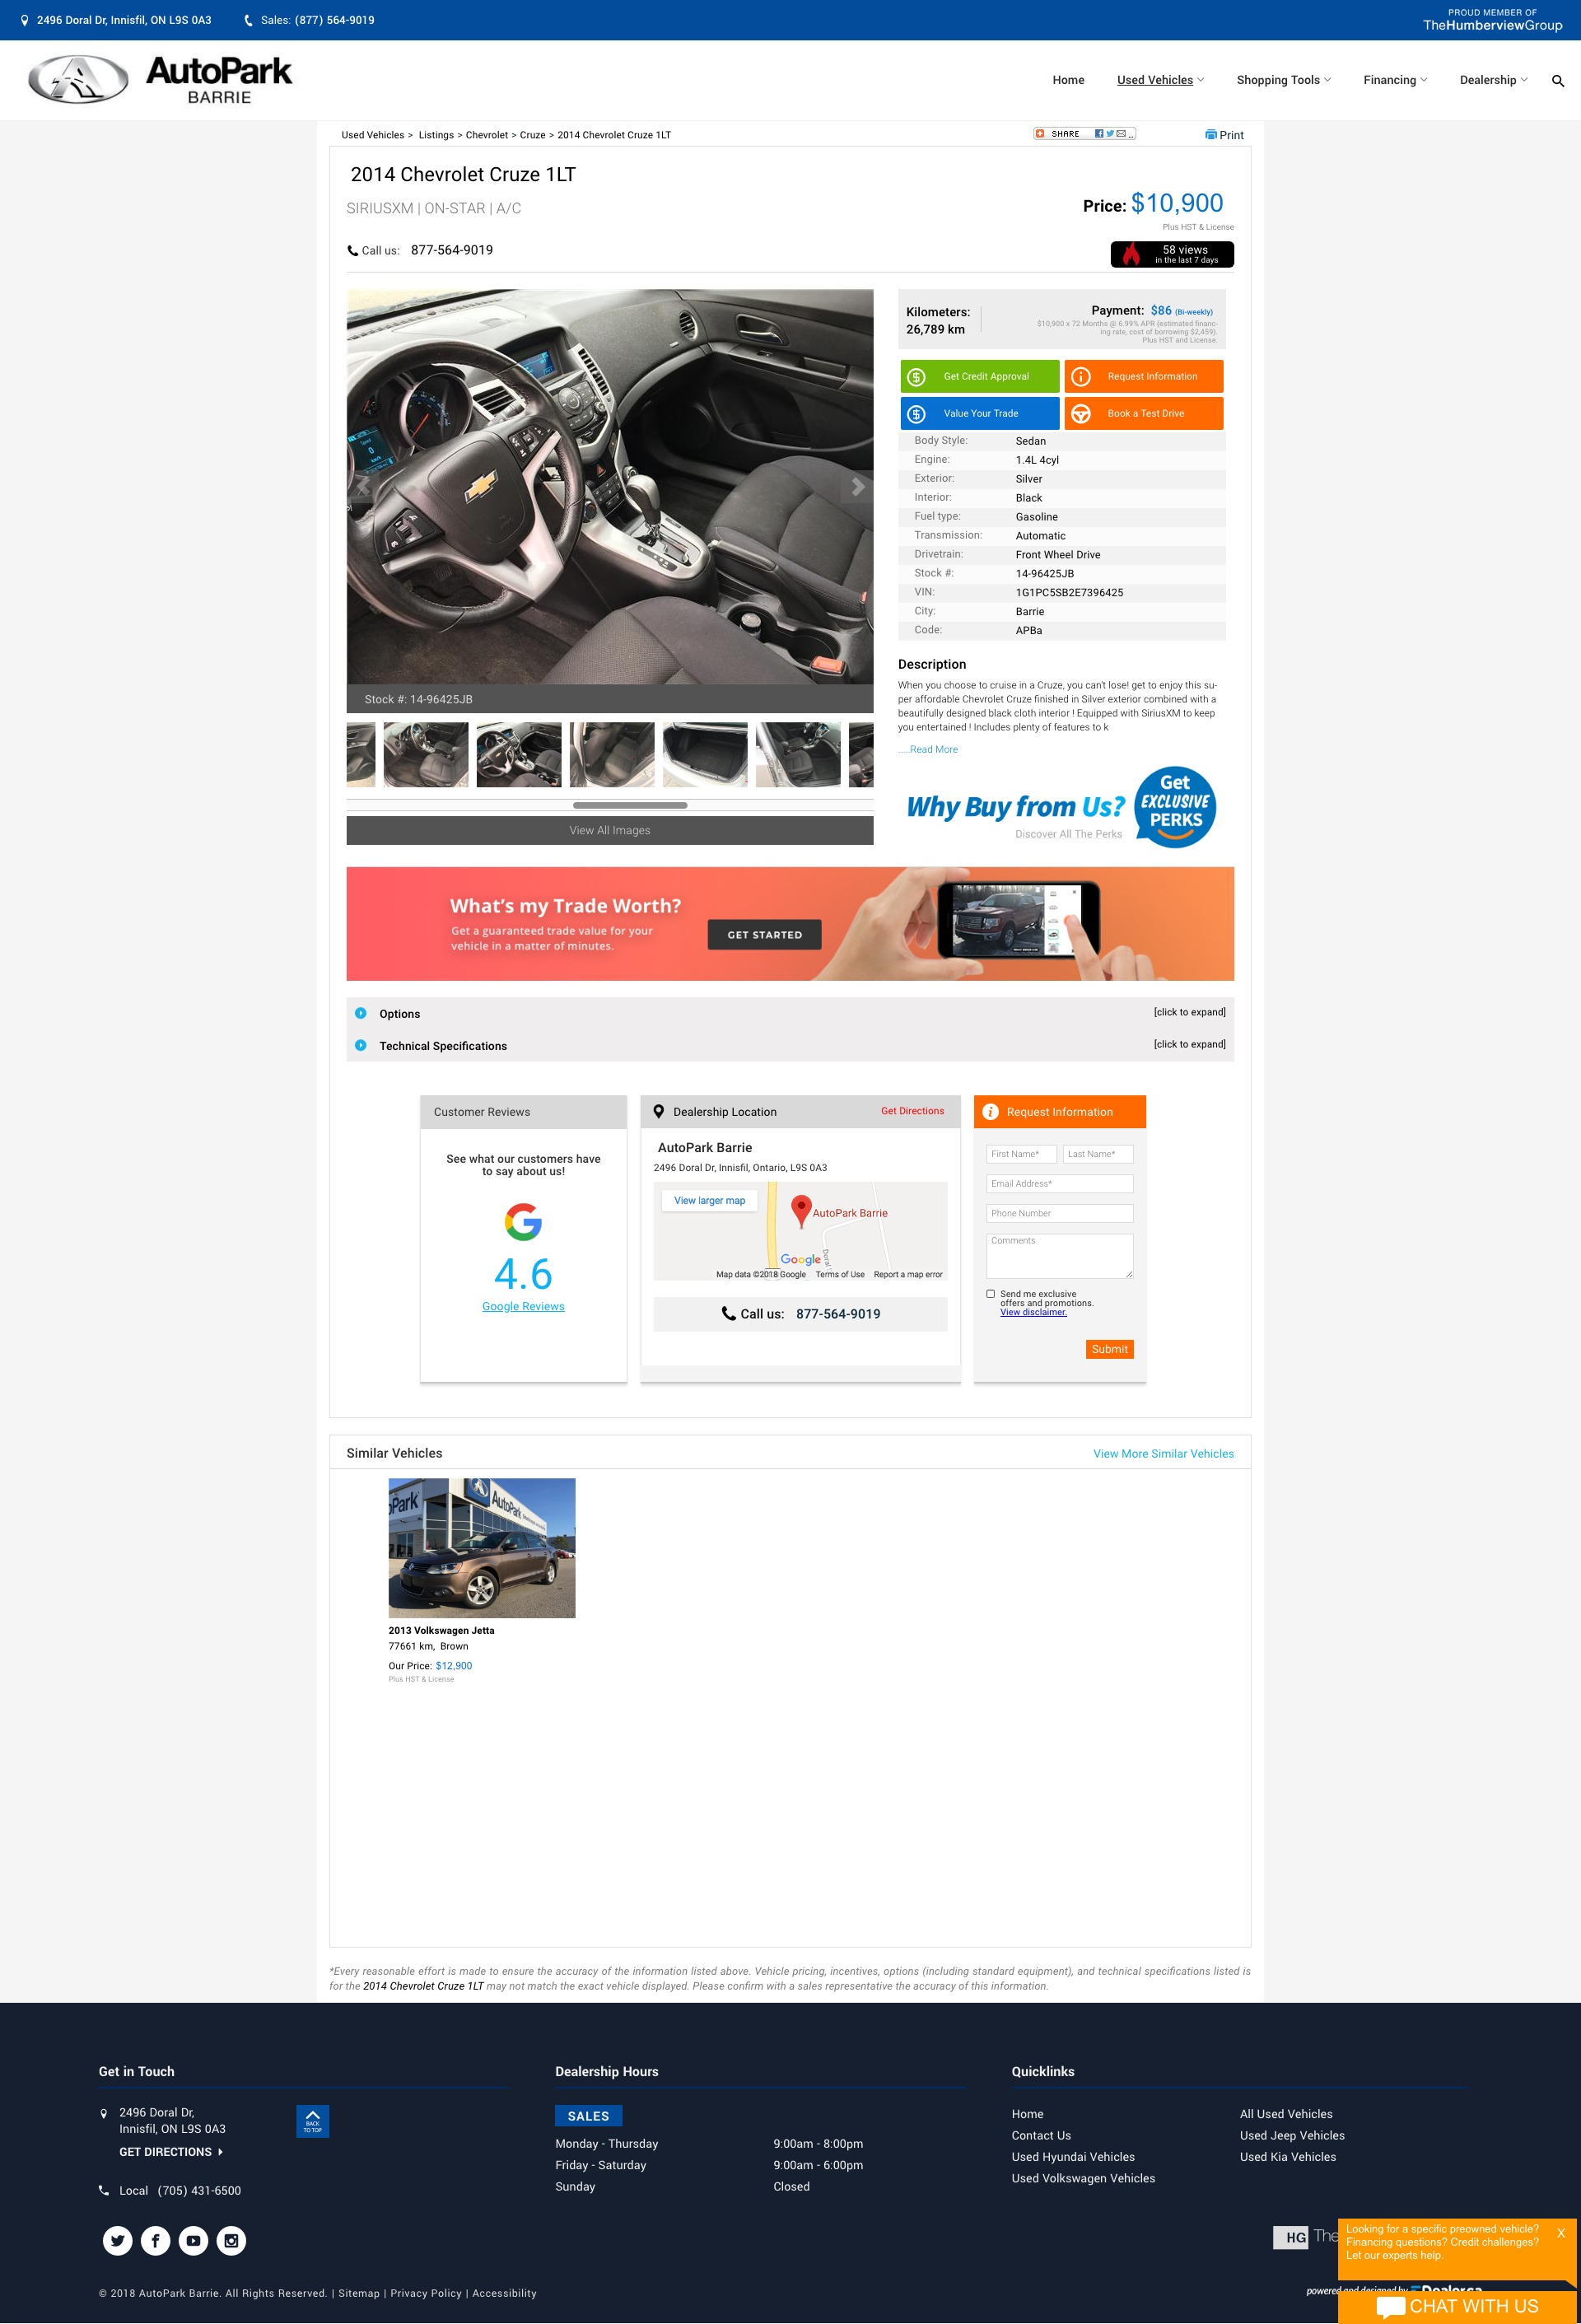car: (865, 798, 877, 813)
